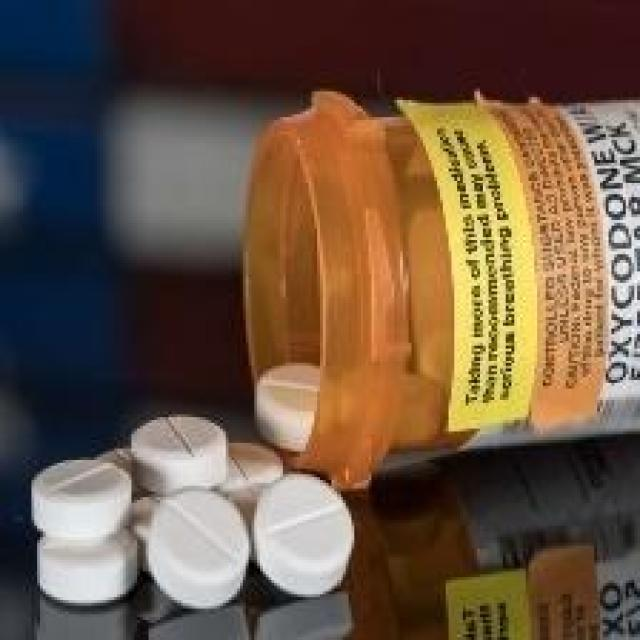Medicine: (16, 89, 640, 640)
